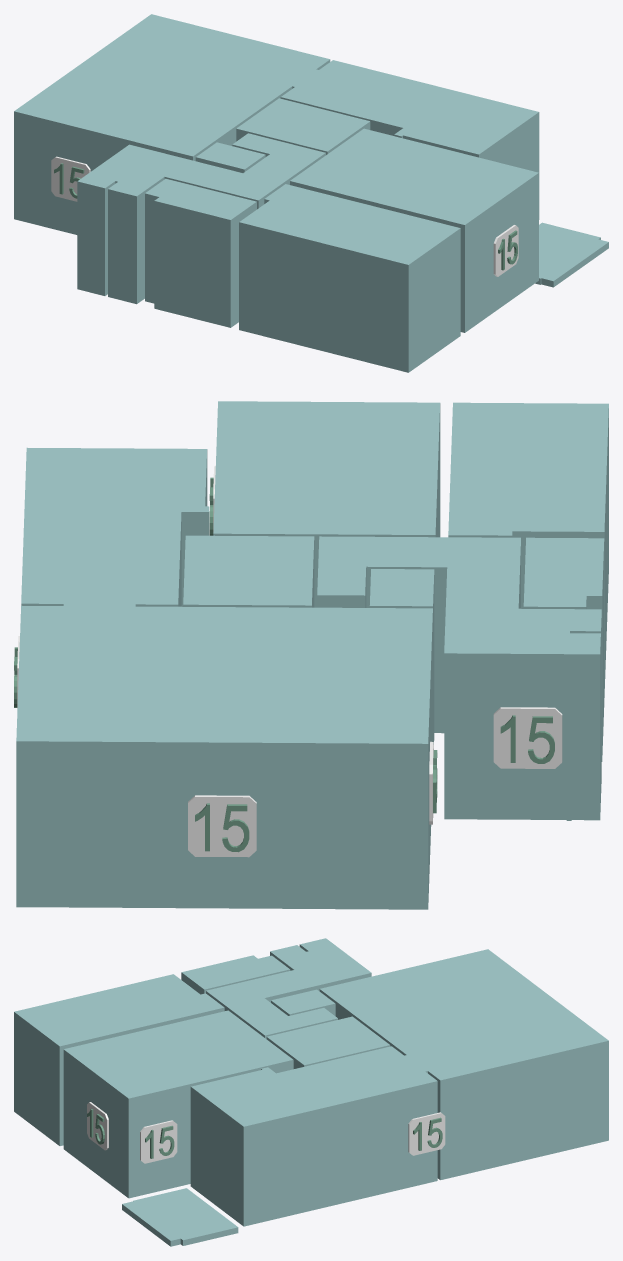
3 views of the same model, one above another, from view 1: azimuth 30°, elevation 25°; view 2: azimuth 150°, elevation 25°; view 3: azimuth 270°, elevation 25° (orthographic). The views are drawn at different scales.
Visible parts, largest first — view 1: g_4, g_1, g_3, g_7, g_0, g_5, g_2, g_8, g_6, g_11, g_20; view 2: g_1, g_7, g_3, g_0, g_4, g_2, g_5, g_26, g_17, g_6, g_16, g_25; view 3: g_1, g_0, g_3, g_4, g_7, g_8, g_2, g_5, g_14, g_23, g_6, g_20.
Boxes of the visible parts, box(x1,y1,x2,y2) form: g_4: box(239, 184, 460, 372); g_1: box(14, 14, 330, 234); g_3: box(290, 128, 538, 332); g_7: box(77, 133, 325, 304); g_0: box(280, 60, 539, 219); g_5: box(145, 178, 256, 327); g_2: box(236, 98, 370, 154); g_8: box(535, 222, 608, 287); g_6: box(195, 142, 265, 172); g_11: box(51, 156, 90, 201); g_20: box(493, 225, 518, 276); g_1: box(16, 605, 432, 909); g_7: box(317, 536, 601, 820); g_3: box(213, 401, 440, 607); g_0: box(21, 447, 209, 606); g_4: box(448, 402, 608, 697); g_2: box(183, 535, 314, 607); g_5: box(523, 537, 604, 761); g_26: box(493, 707, 562, 768); g_17: box(188, 795, 256, 857); g_6: box(369, 569, 434, 744); g_16: box(222, 804, 249, 852); g_25: box(528, 716, 554, 763); g_1: box(319, 949, 608, 1180); g_0: box(190, 1046, 437, 1226); g_3: box(63, 1010, 293, 1198); g_4: box(14, 974, 224, 1145); g_7: box(206, 938, 371, 1038); g_8: box(122, 1188, 238, 1246); g_2: box(266, 1016, 390, 1068); g_5: box(181, 955, 290, 994); g_14: box(140, 1120, 177, 1163); g_23: box(408, 1112, 445, 1155); g_6: box(271, 989, 335, 1015); g_20: box(87, 1102, 108, 1150).
Size of the model in its own units: 11.18 by 2.74 by 13.9.
